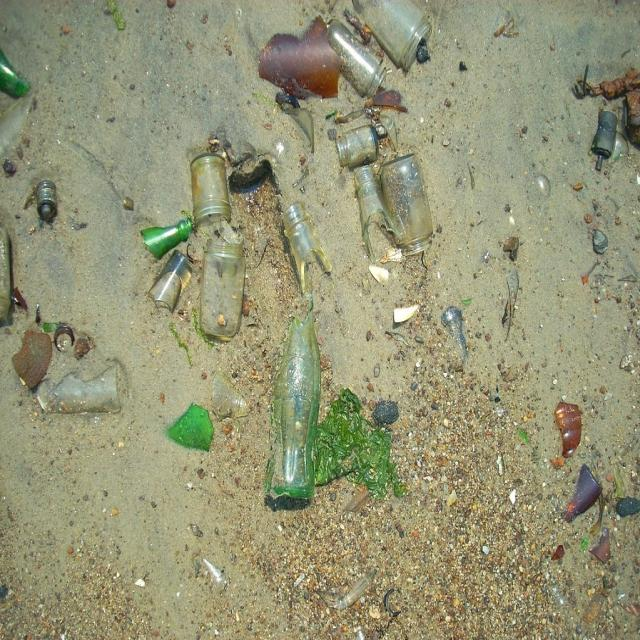Glass: (126, 25, 448, 528)
